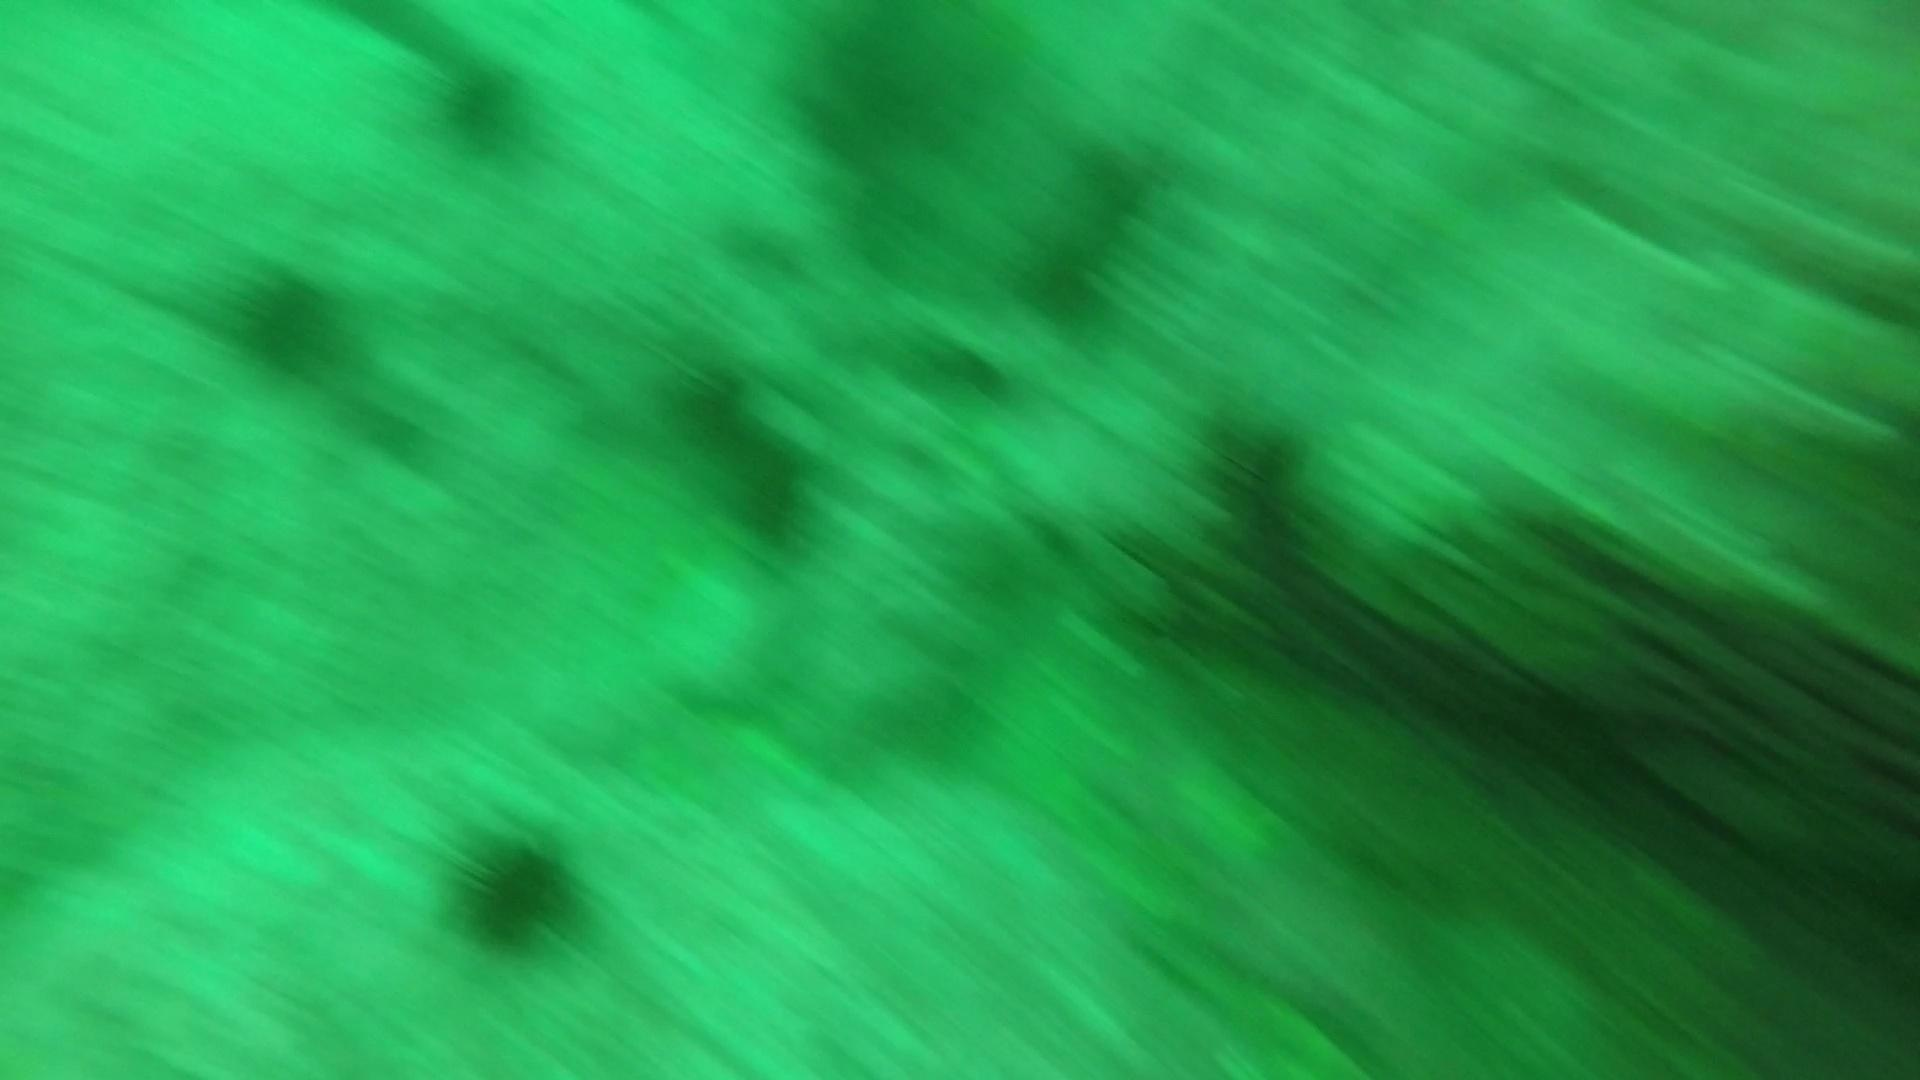echinus: (1007, 132, 1164, 328), (443, 824, 588, 959), (224, 260, 353, 381), (658, 343, 779, 462), (717, 430, 824, 555), (426, 51, 541, 162)
